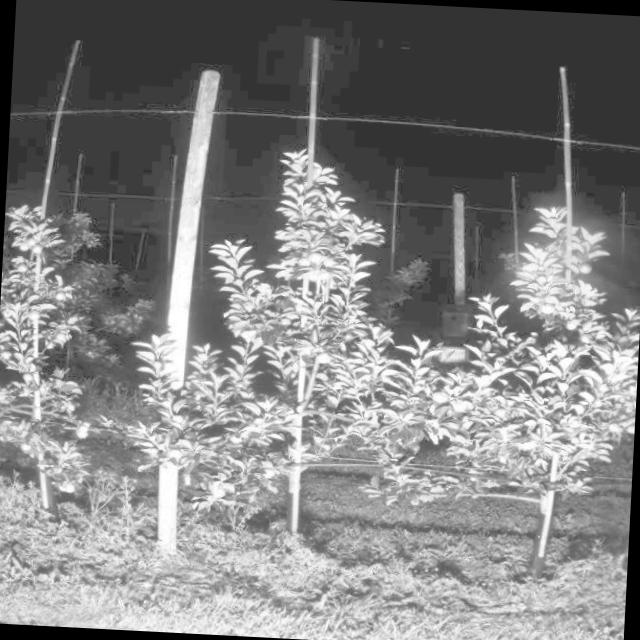Tree: (430, 201, 640, 572), (225, 140, 397, 592), (0, 204, 105, 522)
